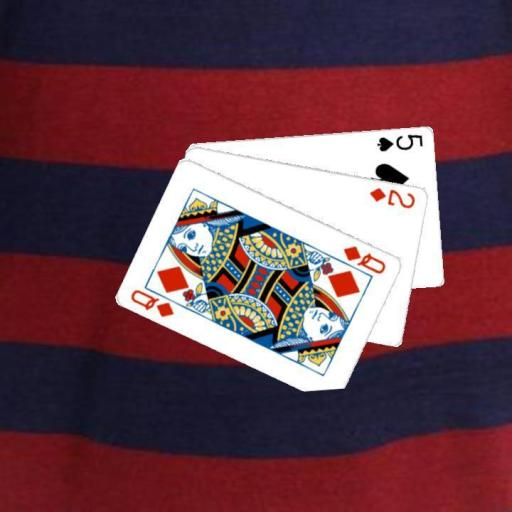card-corner: (128, 286, 176, 318), (340, 243, 387, 275), (367, 184, 417, 210), (374, 131, 425, 152)
